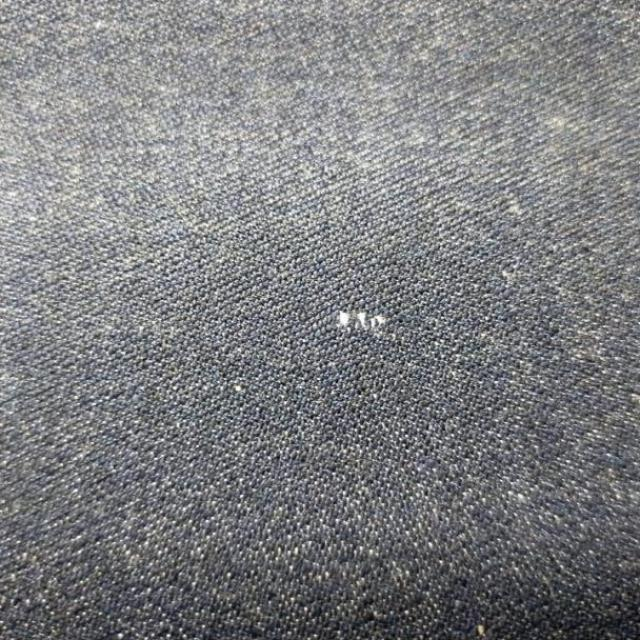Knot: (338, 312, 389, 331)
